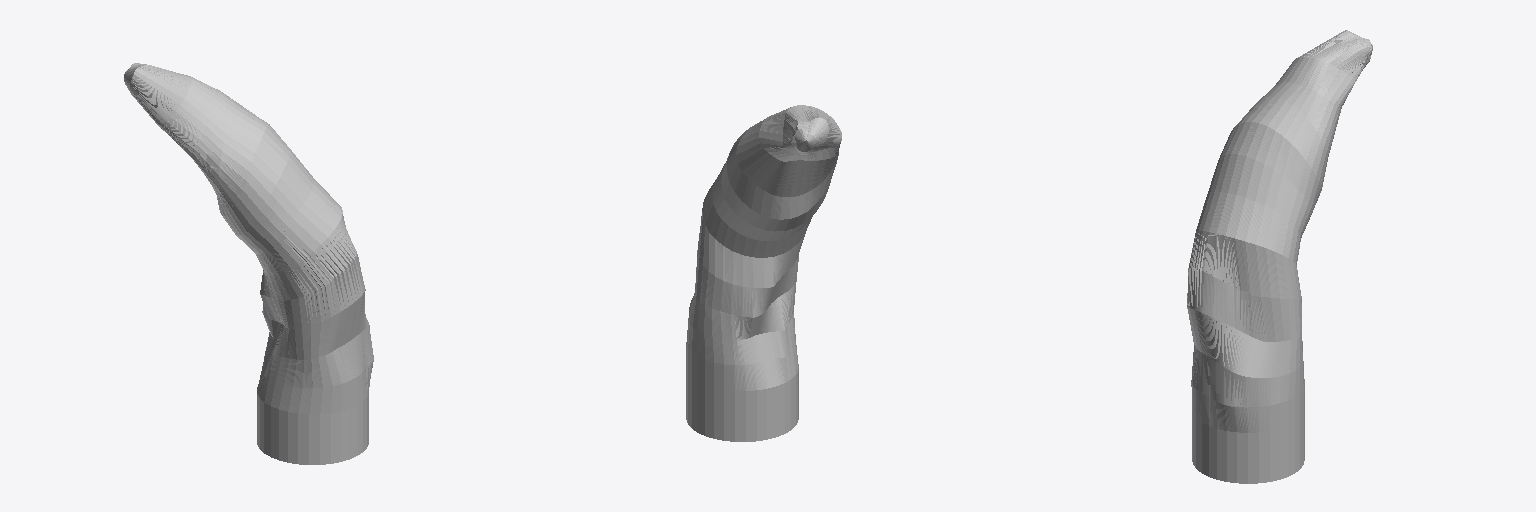
File: Pillar.obj
3 views of the same model, side by side, from view 1: azimuth 30°, elevation 25°; view 2: azimuth 150°, elevation 25°; view 3: azimuth 270°, elevation 25° (orthographic).
Parts seen in each view (by area): view 1: Cylinder; view 2: Cylinder; view 3: Cylinder.
Part boxes in pixels (x1,y1,x2,y2): Cylinder: (124, 63, 373, 464); Cylinder: (686, 105, 841, 441); Cylinder: (1187, 30, 1372, 483).
Bounding box in the file's own units: 1.91 × 3.61 × 1.65.